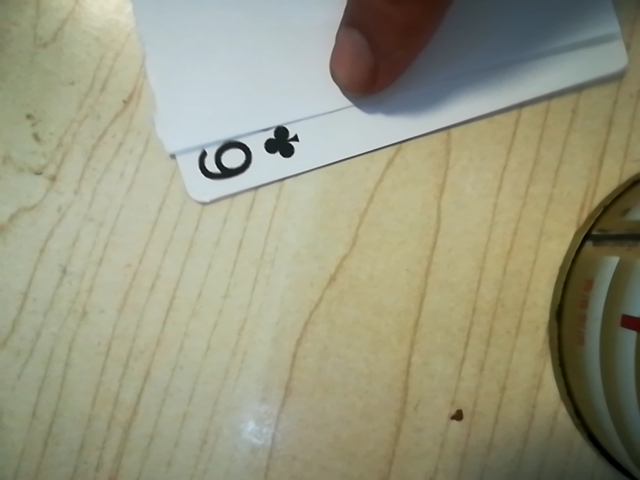mh 6: (179, 117, 316, 191)
